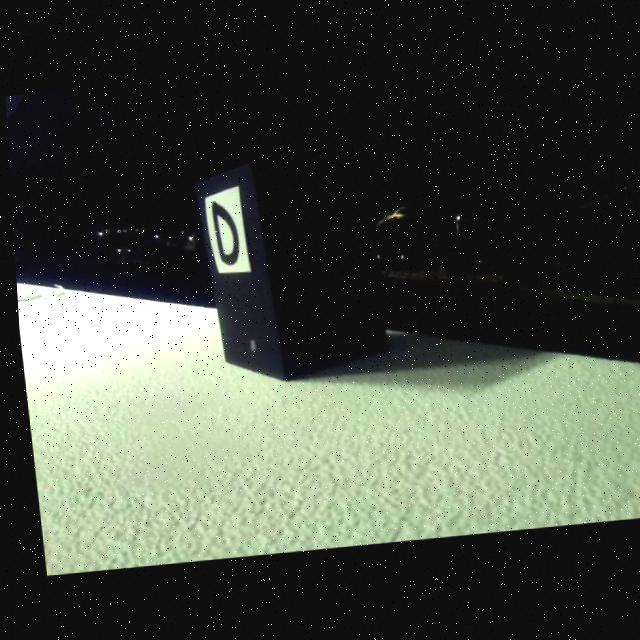D: (208, 202, 238, 269)
